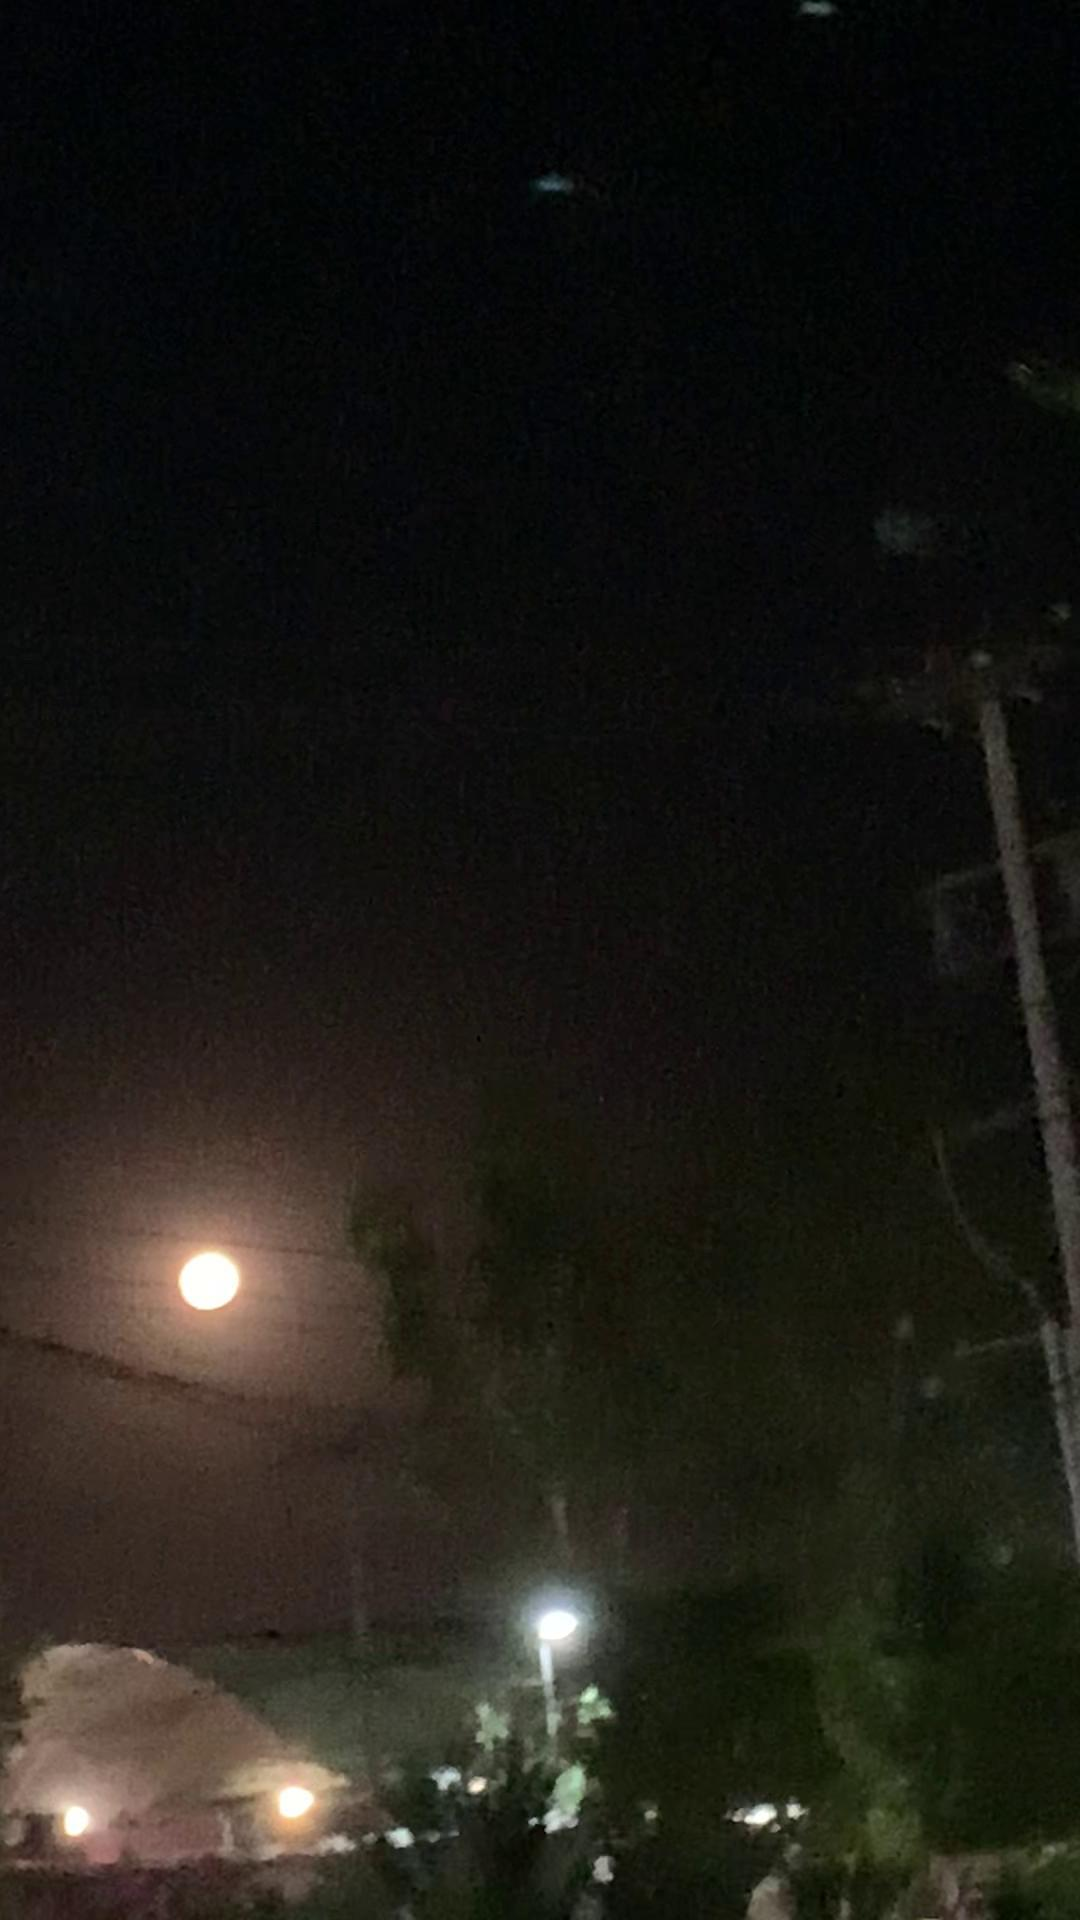moon: (164, 1250, 261, 1332)
